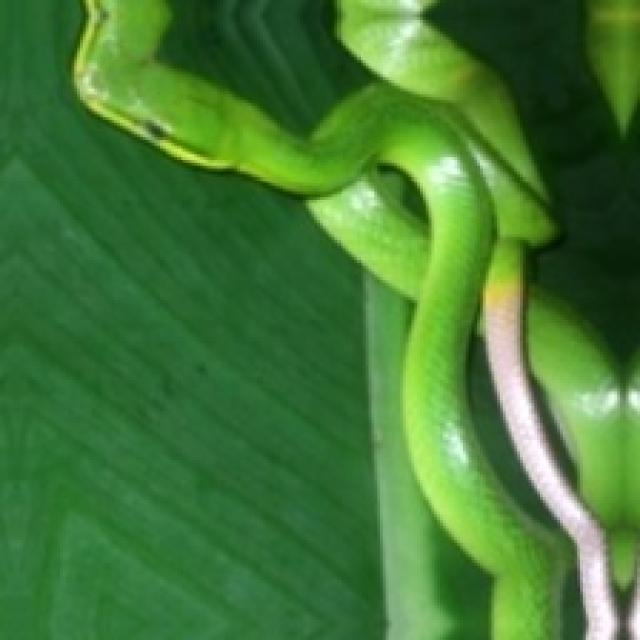red-tailed green ratsnake: (74, 0, 637, 637)
